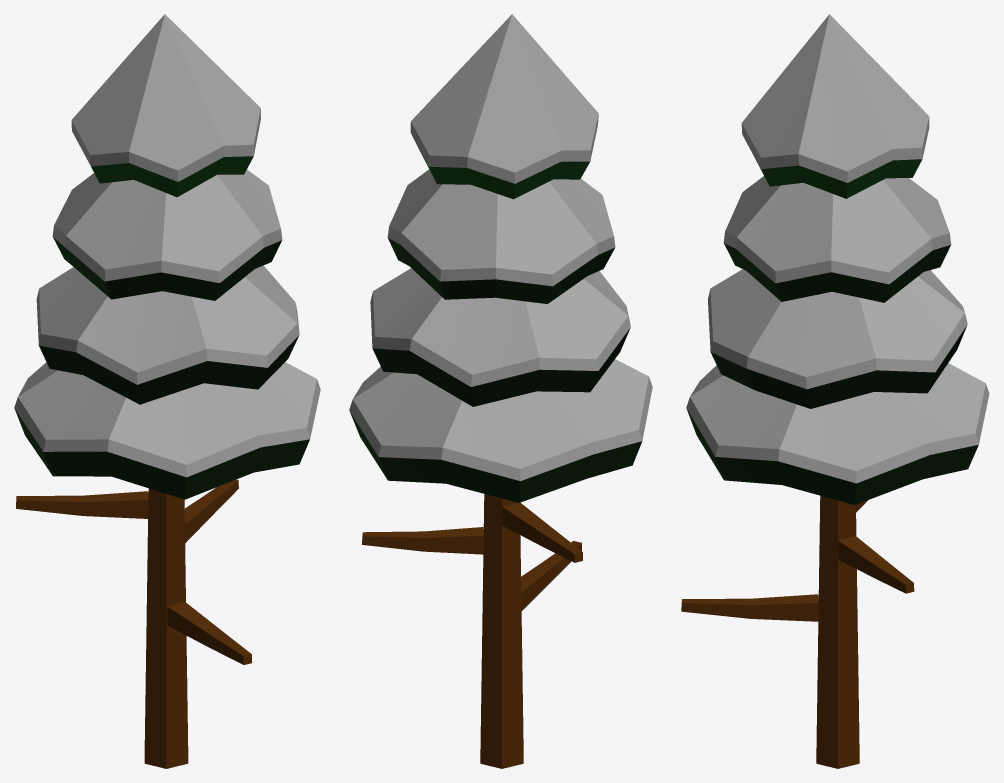
Rendered from SM__Coniferous__Tree__Snow__Growth__3.fbx.
3 renders of one model, left to right at view 1: azimuth 30°, elevation 25°; view 2: azimuth 150°, elevation 25°; view 3: azimuth 270°, elevation 25°, orthographic.
Parts seen in each view (by area): view 1: groupdelete6; view 2: groupdelete6; view 3: groupdelete6.
Boxes of the visible parts, x1,y1,x2,y2 form: groupdelete6: [14, 14, 320, 768]; groupdelete6: [349, 14, 652, 768]; groupdelete6: [681, 14, 989, 768].
Bounding box in the file's own units: 4.13 × 11.09 × 4.17.
